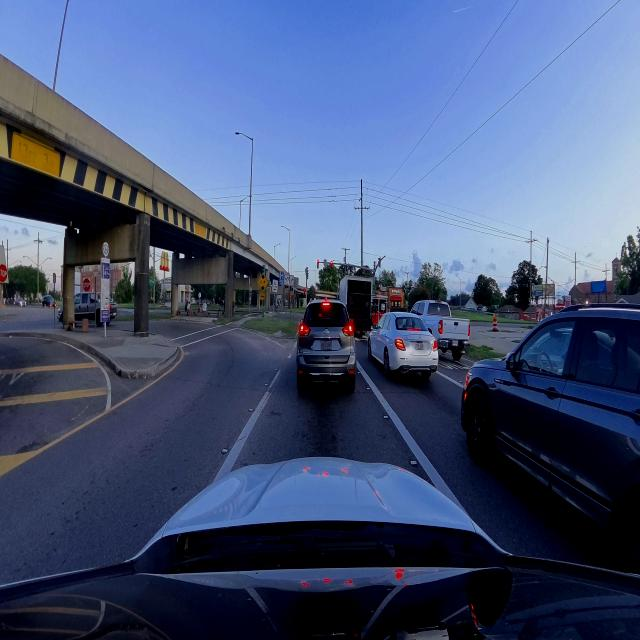car: (462, 305, 639, 572), (297, 300, 356, 392), (368, 312, 438, 378), (412, 300, 470, 360)
